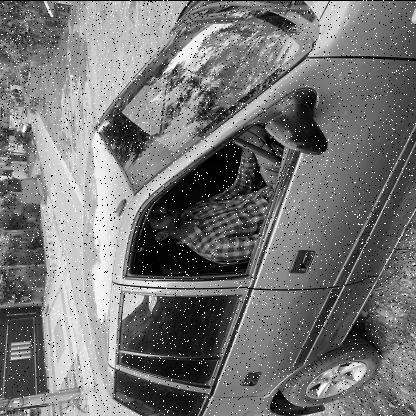no_seatbelt: (147, 178, 262, 264)
